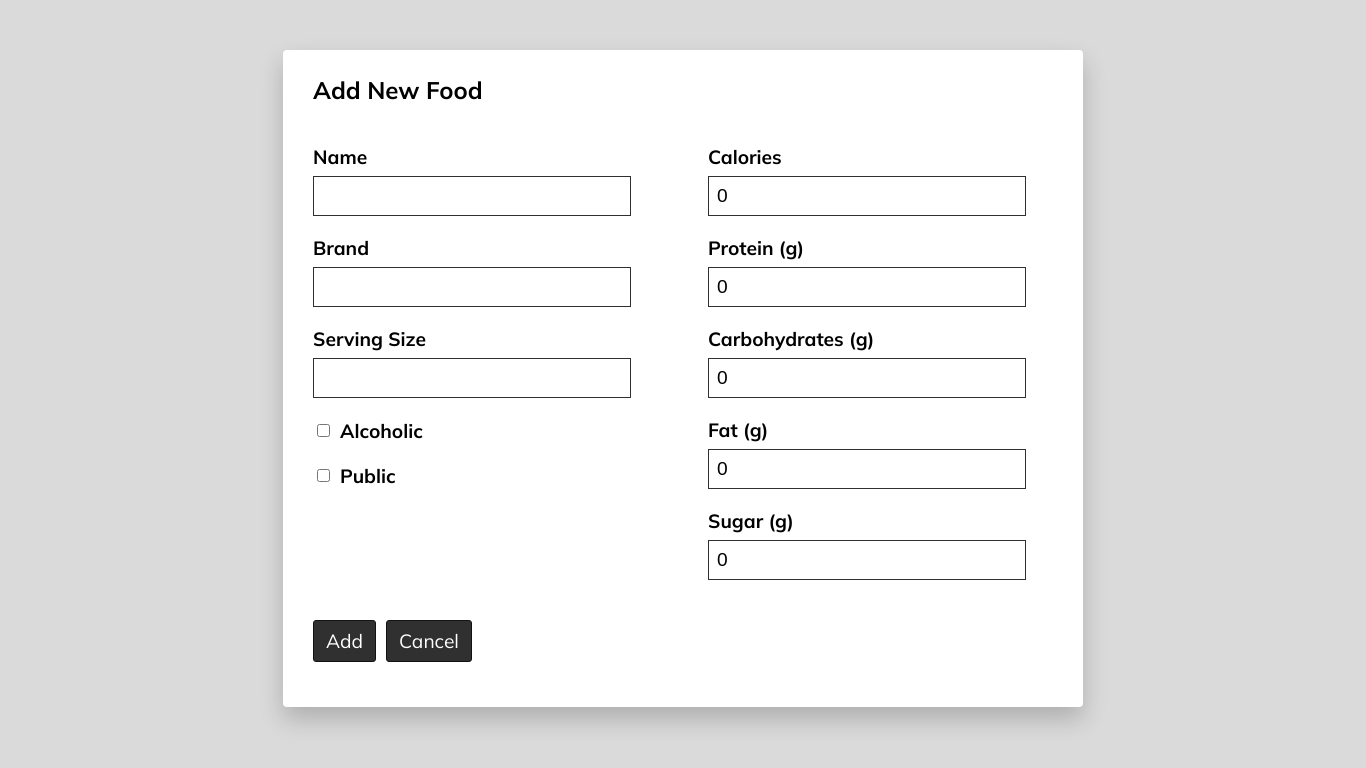
Test case: <CustomFoodForm /> › it validates the form when add is clicked
This screenshot has width=1366, height=768.
Click the button "Add" at (344,641), box [313,620,376,662]
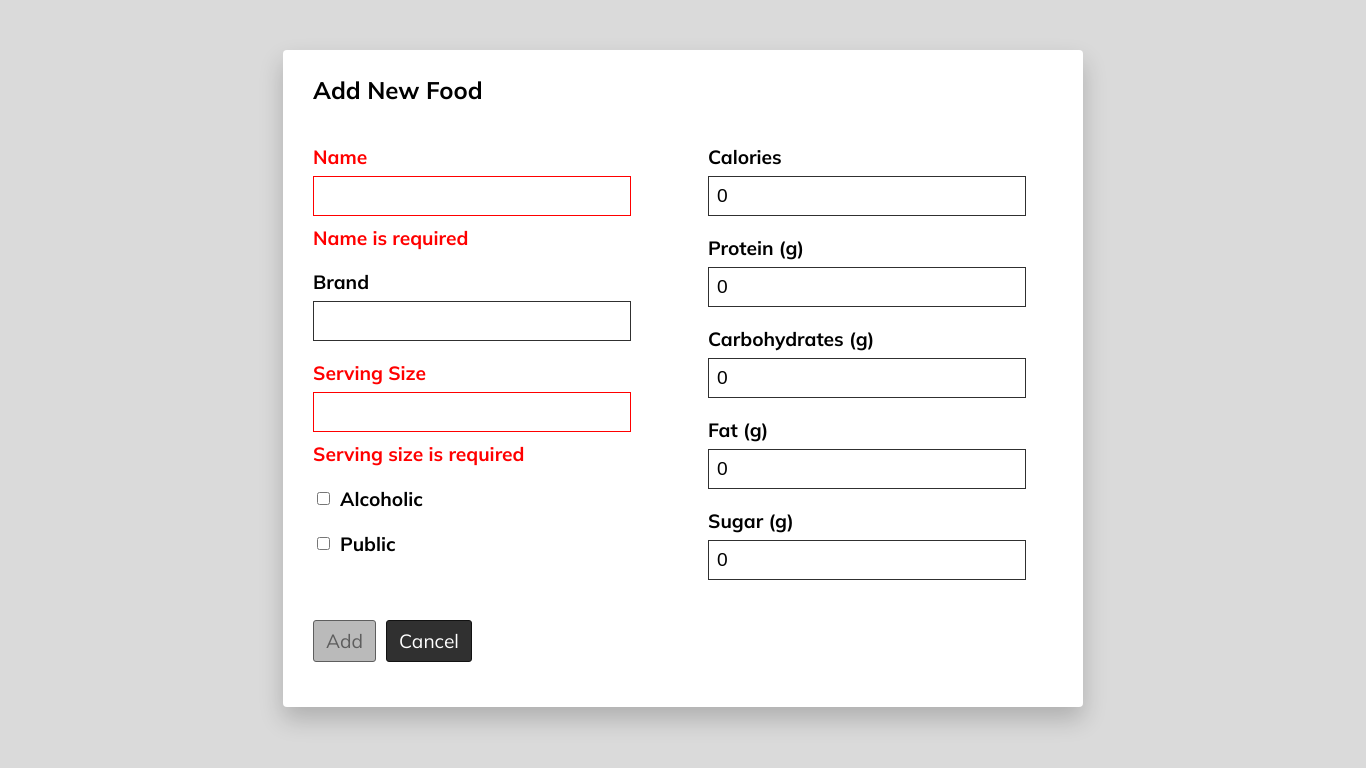
Expected: the text "Name is required" is shown, [313,226,468,250]
Expected: the text "Serving size is required" is shown, [313,442,524,466]
Expected: the button "Add" is disabled, [313,620,376,662]
